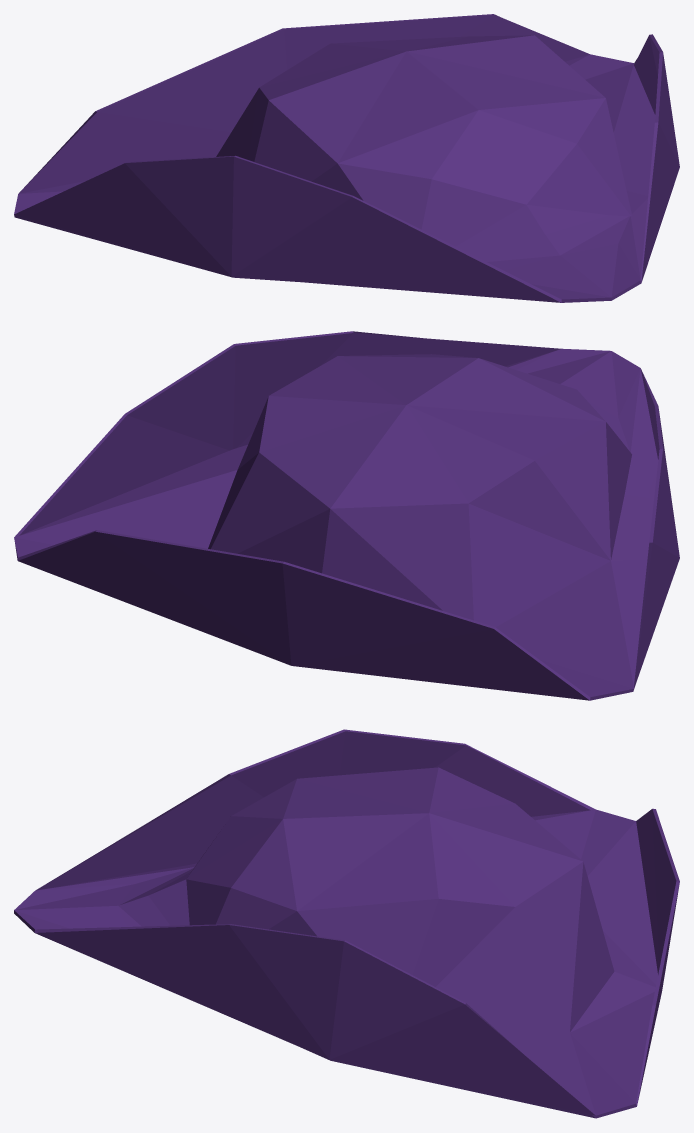
Rendered from M_capp.fbx.
3 views of the same model, one above another, from view 1: azimuth 30°, elevation 25°; view 2: azimuth 150°, elevation 25°; view 3: azimuth 270°, elevation 25° (orthographic).
Visible parts, largest first — view 1: cappello.001; view 2: cappello.001; view 3: cappello.001.
Part boxes in pixels (bbox=[...]): cappello.001: bbox=[14, 14, 679, 302]; cappello.001: bbox=[14, 331, 679, 700]; cappello.001: bbox=[14, 729, 679, 1118].
Bounding box in the file's own units: 32.46 × 8.83 × 29.83.
